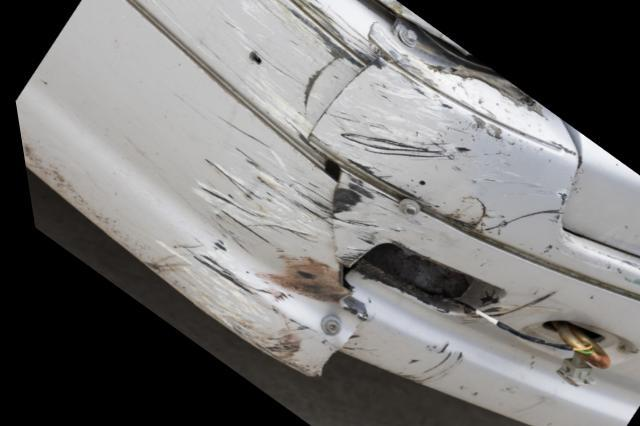crack: (330, 261, 348, 293)
rub: (138, 0, 572, 241), (139, 140, 400, 370)
scratch: (388, 341, 451, 386), (595, 253, 640, 287)
